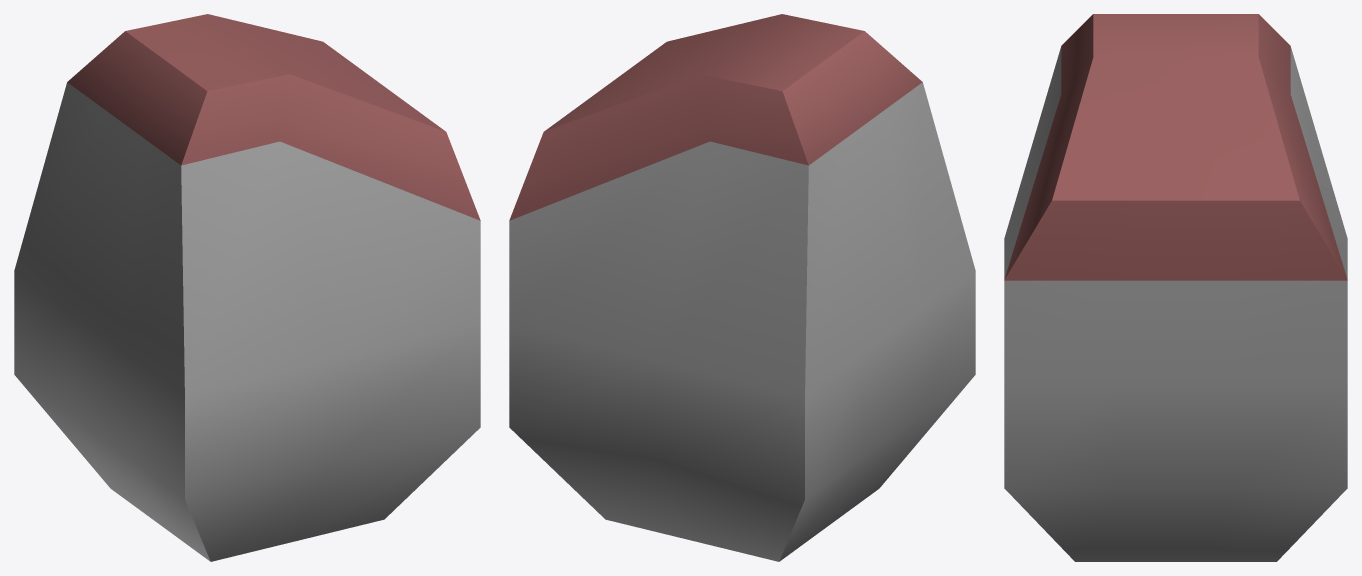
The model's file is stone_2.fbx.
3 renders of one model, left to right at view 1: azimuth 30°, elevation 25°; view 2: azimuth 150°, elevation 25°; view 3: azimuth 270°, elevation 25°, orthographic.
Visible parts, largest first — view 1: pCube1; view 2: pCube1; view 3: pCube1.
Boxes of the visible parts, x1=… form: pCube1: x1=14, y1=14, x2=480, y2=561; pCube1: x1=509, y1=14, x2=975, y2=561; pCube1: x1=1004, y1=14, x2=1347, y2=561.
Bounding box in the file's own units: 3 × 4.48 × 3.
